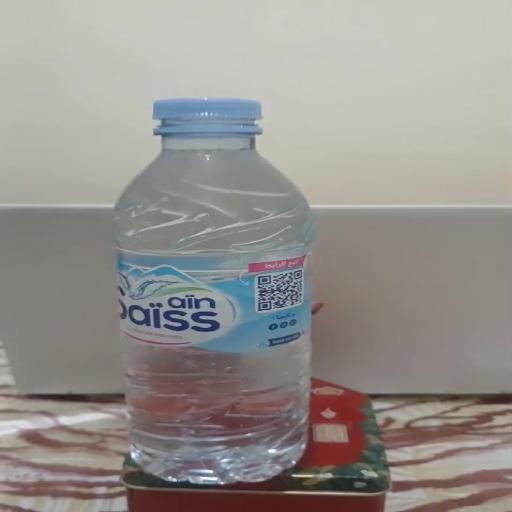bouteille non conformite: (132, 88, 291, 154)
